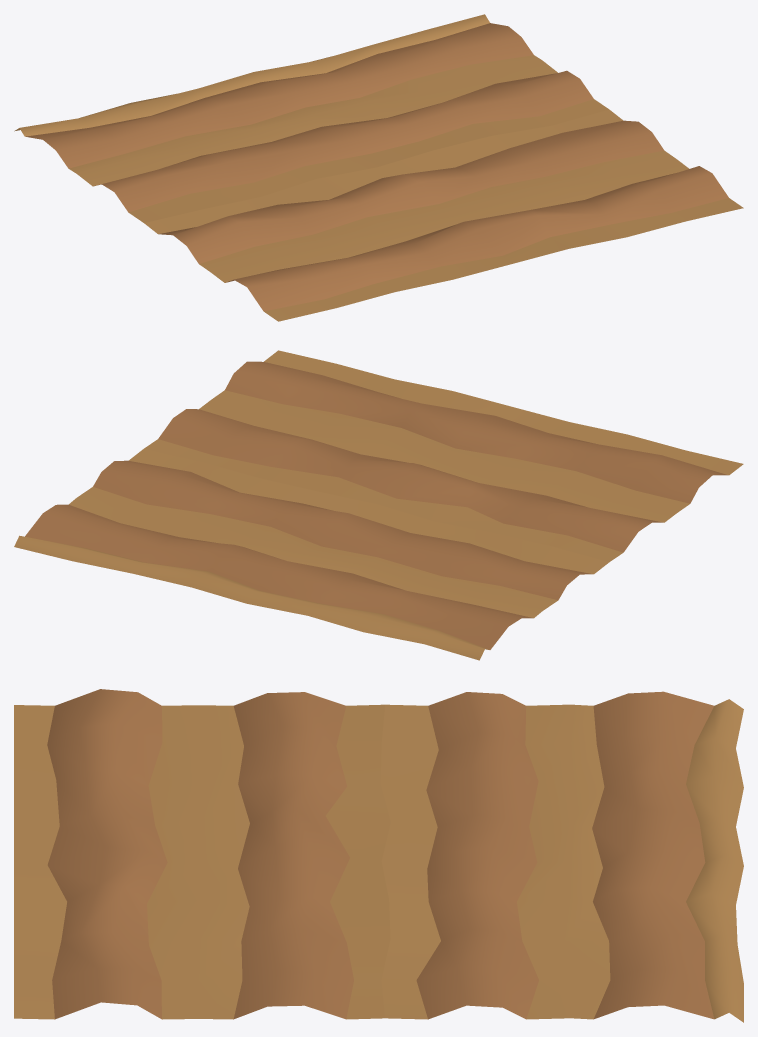
The model's file is Building_model_0_Fieldleftedge001.fbx.
3 views of the same model, one above another, from view 1: azimuth 30°, elevation 25°; view 2: azimuth 150°, elevation 25°; view 3: azimuth 270°, elevation 25° (orthographic). The views are drawn at different scales.
Visible parts, largest first — view 1: Building_model_0_Fieldleftedge001; view 2: Building_model_0_Fieldleftedge001; view 3: Building_model_0_Fieldleftedge001.
Part boxes in pixels (bbox=[...]): Building_model_0_Fieldleftedge001: bbox=[14, 14, 743, 321]; Building_model_0_Fieldleftedge001: bbox=[14, 350, 743, 660]; Building_model_0_Fieldleftedge001: bbox=[14, 689, 743, 1022].
Bounding box in the file's own units: 3 × 0.1042 × 2.95.
